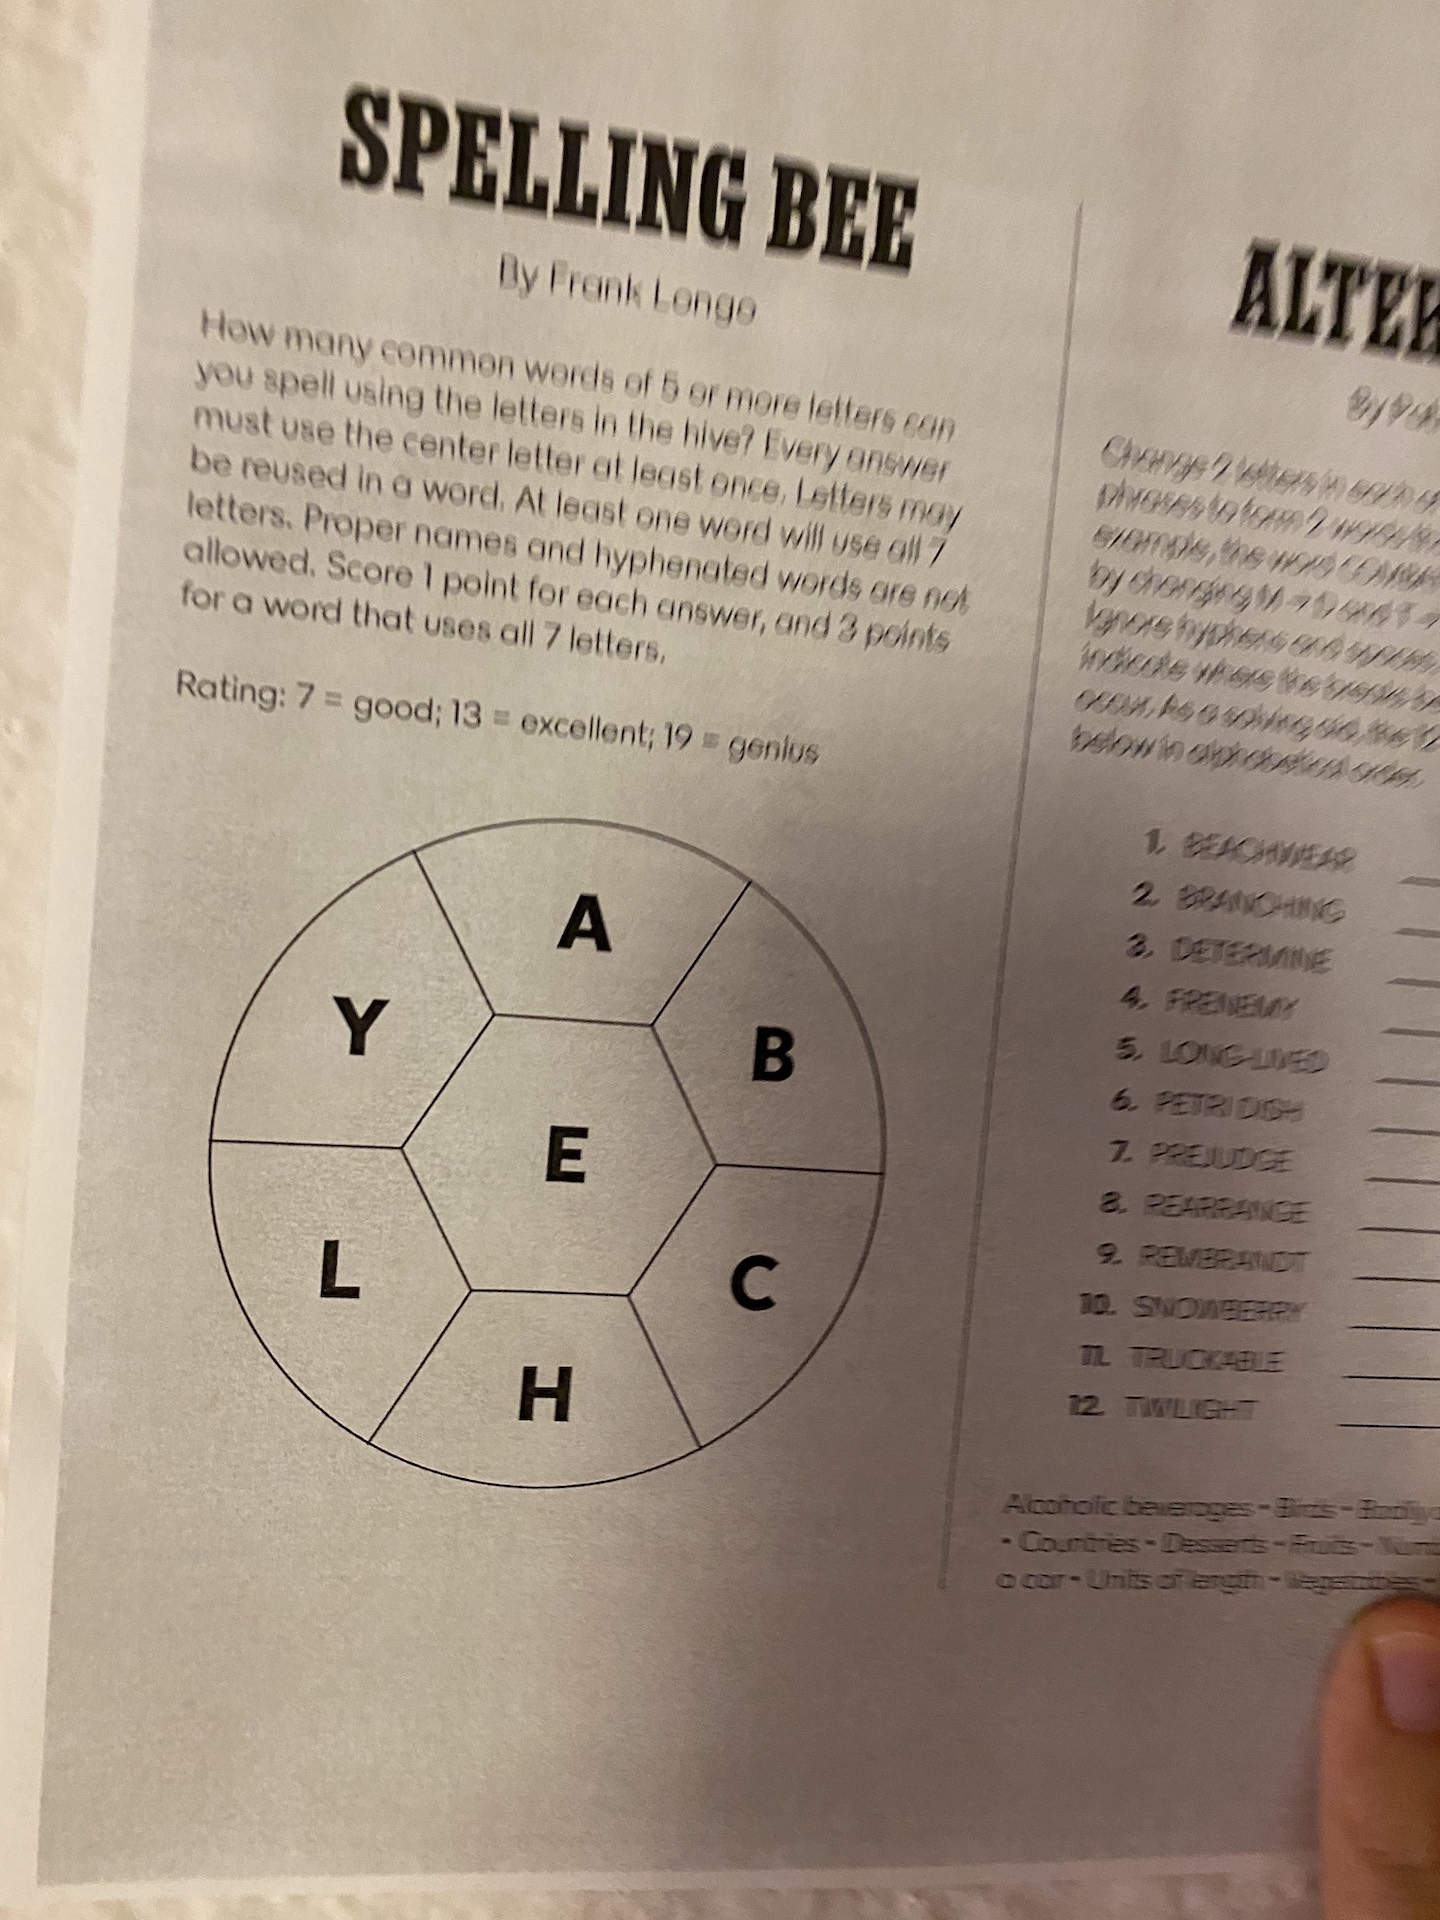PrintBoard: (175, 810, 914, 1512)
